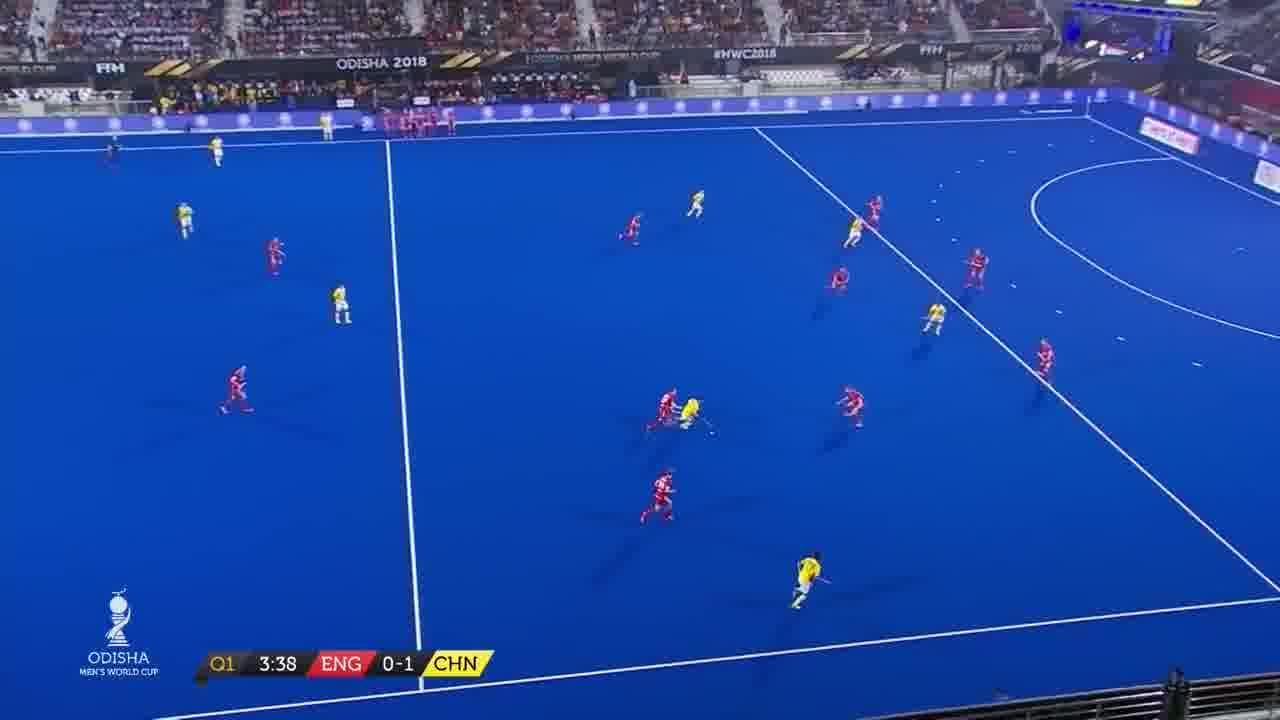ball: (704, 426, 717, 442)
